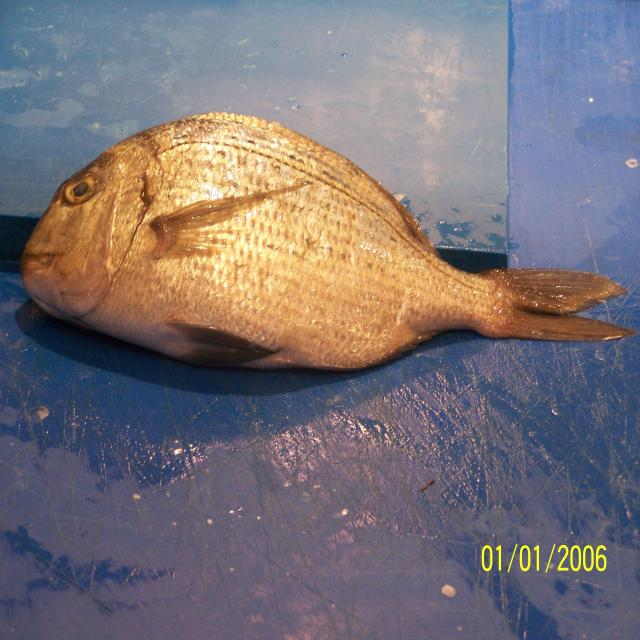Red-Sea-Bream-mercan-: (20, 111, 632, 374)
